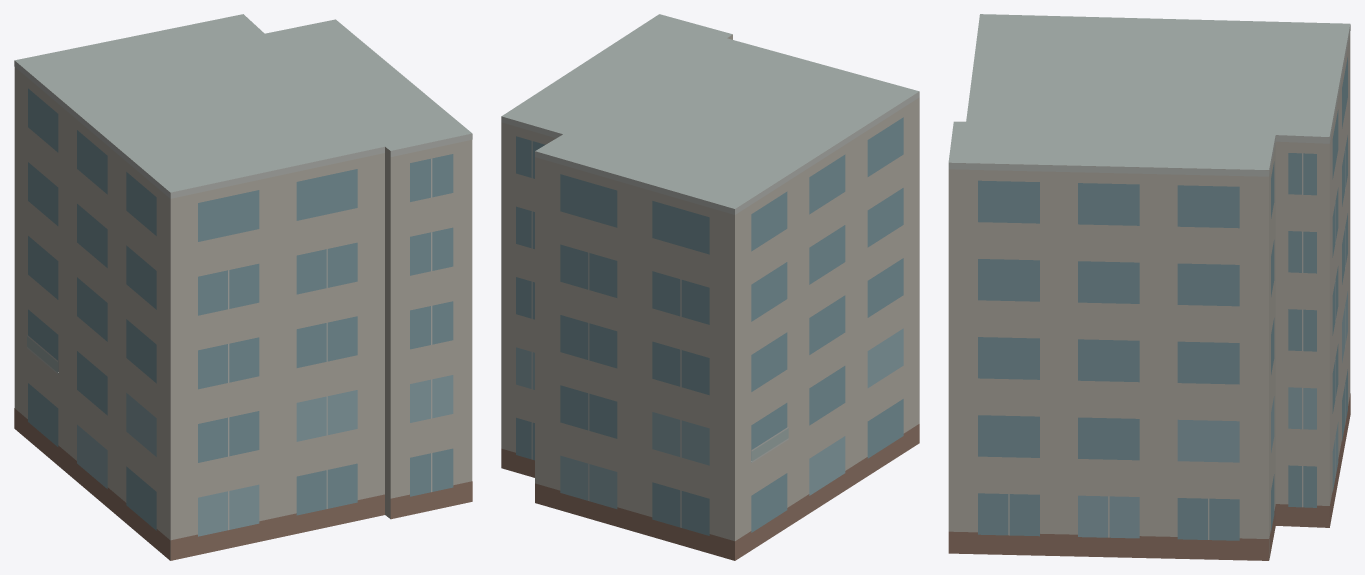
File: survey-upis-32949904.glb
The picture shows the model from 3 angles, left to right: view 1: azimuth 30°, elevation 25°; view 2: azimuth 150°, elevation 25°; view 3: azimuth 270°, elevation 25°; orthographic projection. The views are drawn at different scales.
Visible parts, largest first — view 1: survey-upis-32949904.tmp; view 2: survey-upis-32949904.tmp; view 3: survey-upis-32949904.tmp.
Part boxes in pixels (x1=…): survey-upis-32949904.tmp: x1=14, y1=14, x2=472, y2=560; survey-upis-32949904.tmp: x1=501, y1=14, x2=919, y2=560; survey-upis-32949904.tmp: x1=948, y1=14, x2=1350, y2=560.
Bounding box in the file's own units: 12.35 × 14.4 × 13.44.
